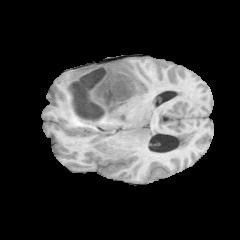glioma: (63, 62, 191, 147)
